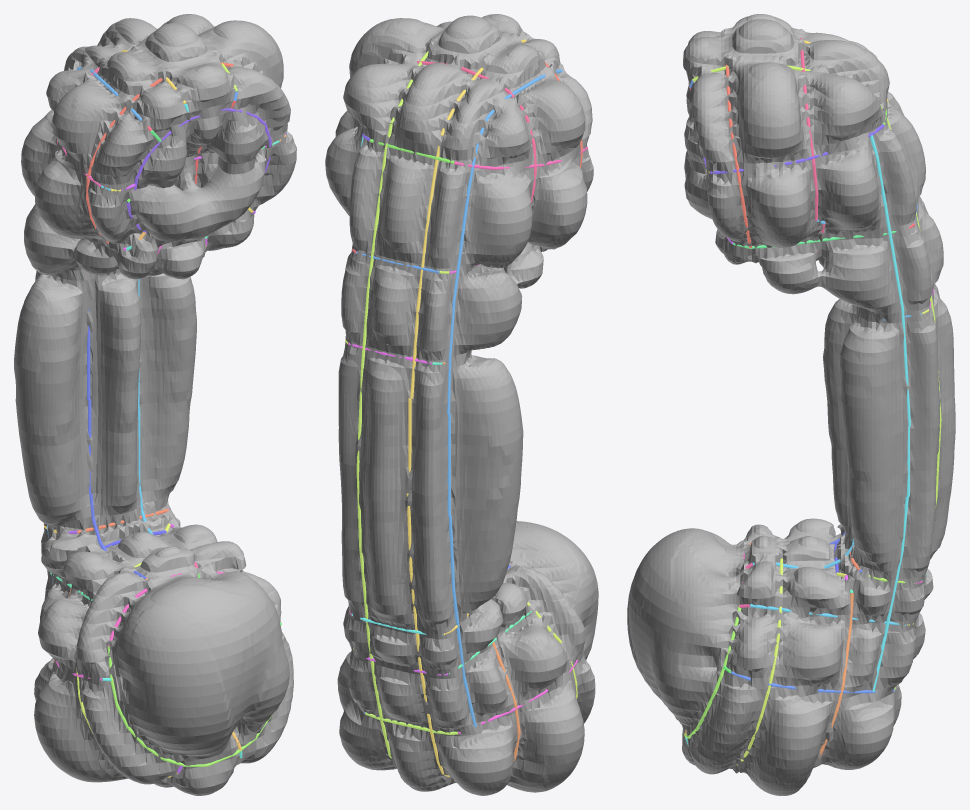
File: flowrep_phone.gltf
3 views of the same model, side by side, from view 1: azimuth 30°, elevation 25°; view 2: azimuth 150°, elevation 25°; view 3: azimuth 270°, elevation 25° (orthographic).
Bounding box in the file's own units: 0.3293 × 0.9785 × 0.3856.
